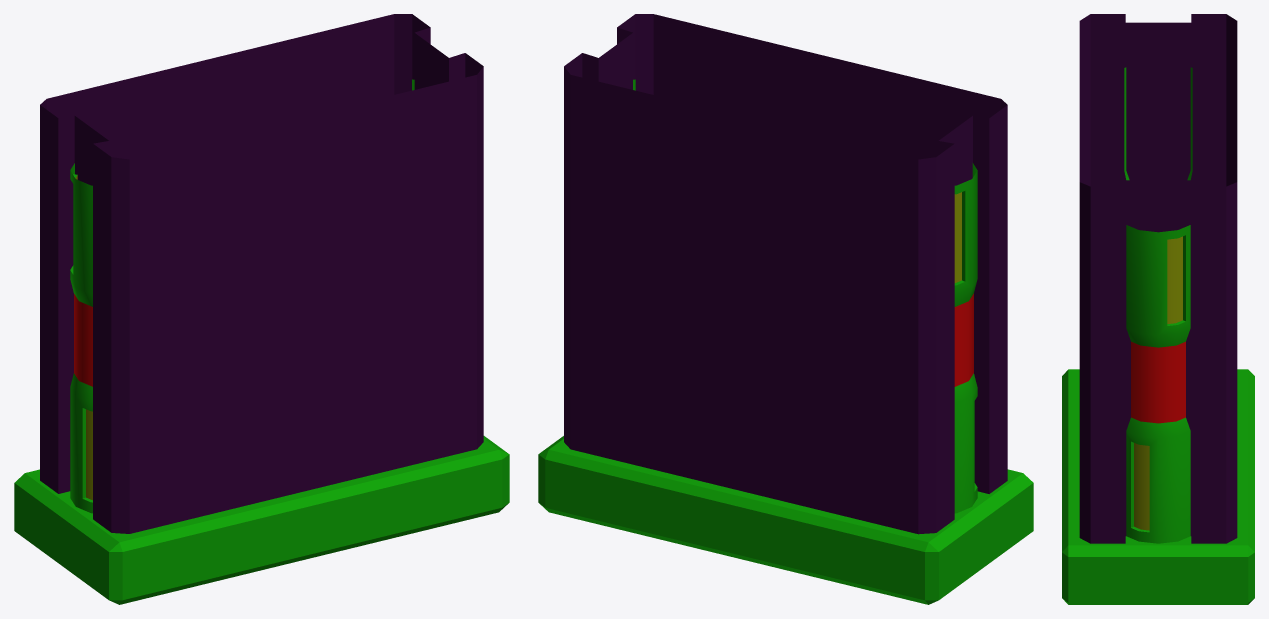
The model's file is OBJ_Pilone_cube.fbx.
3 views of the same model, side by side, from view 1: azimuth 30°, elevation 25°; view 2: azimuth 150°, elevation 25°; view 3: azimuth 270°, elevation 25° (orthographic). The views are drawn at different scales.
Parts seen in each view (by area): view 1: OBJ_Pilone_cube; view 2: OBJ_Pilone_cube; view 3: OBJ_Pilone_cube.
Part boxes in pixels (x1=…): OBJ_Pilone_cube: x1=14, y1=14, x2=509, y2=604; OBJ_Pilone_cube: x1=538, y1=14, x2=1033, y2=604; OBJ_Pilone_cube: x1=1062, y1=14, x2=1254, y2=604.
Bounding box in the file's own units: 19.95 × 20.86 × 8.76.
